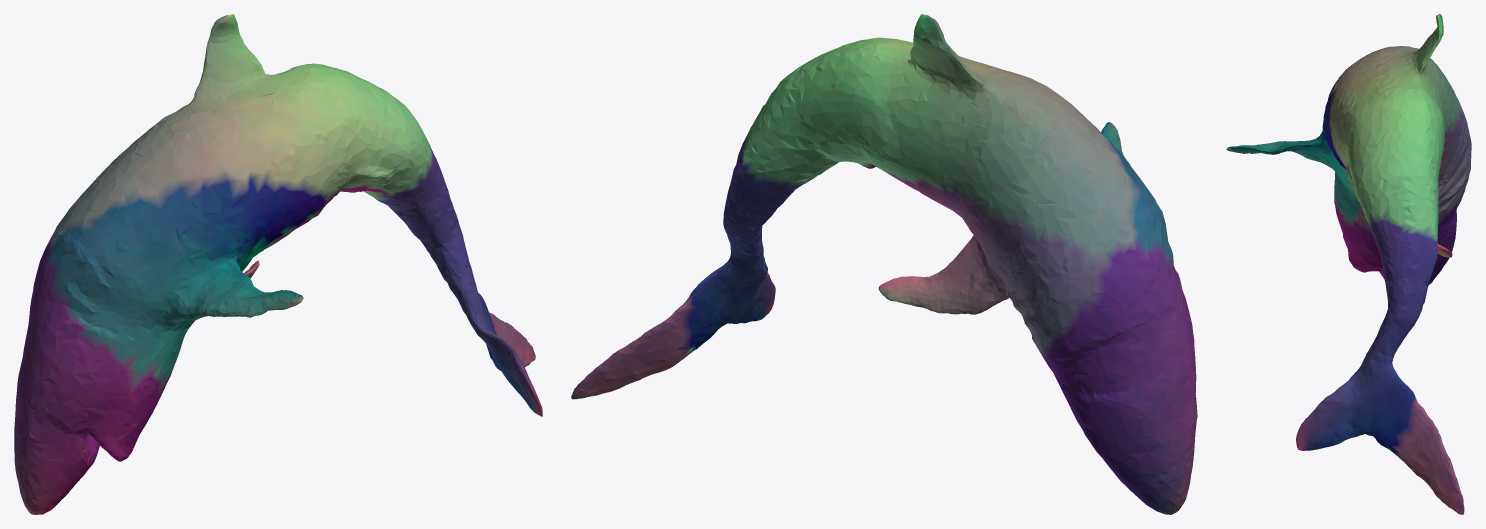
File: shark-7.off.obj
3 views of the same model, side by side, from view 1: azimuth 30°, elevation 25°; view 2: azimuth 150°, elevation 25°; view 3: azimuth 270°, elevation 25° (orthographic). The views are drawn at different scales.
Size of the model in its own units: 1.2 by 0.9011 by 0.5429.
